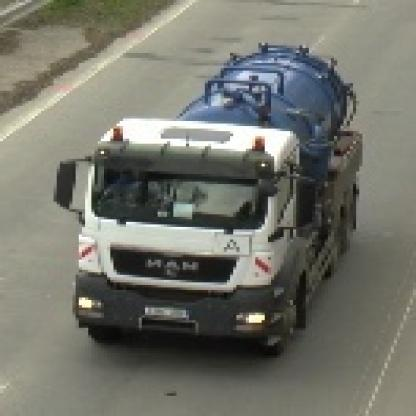truck: (52, 41, 361, 354)
